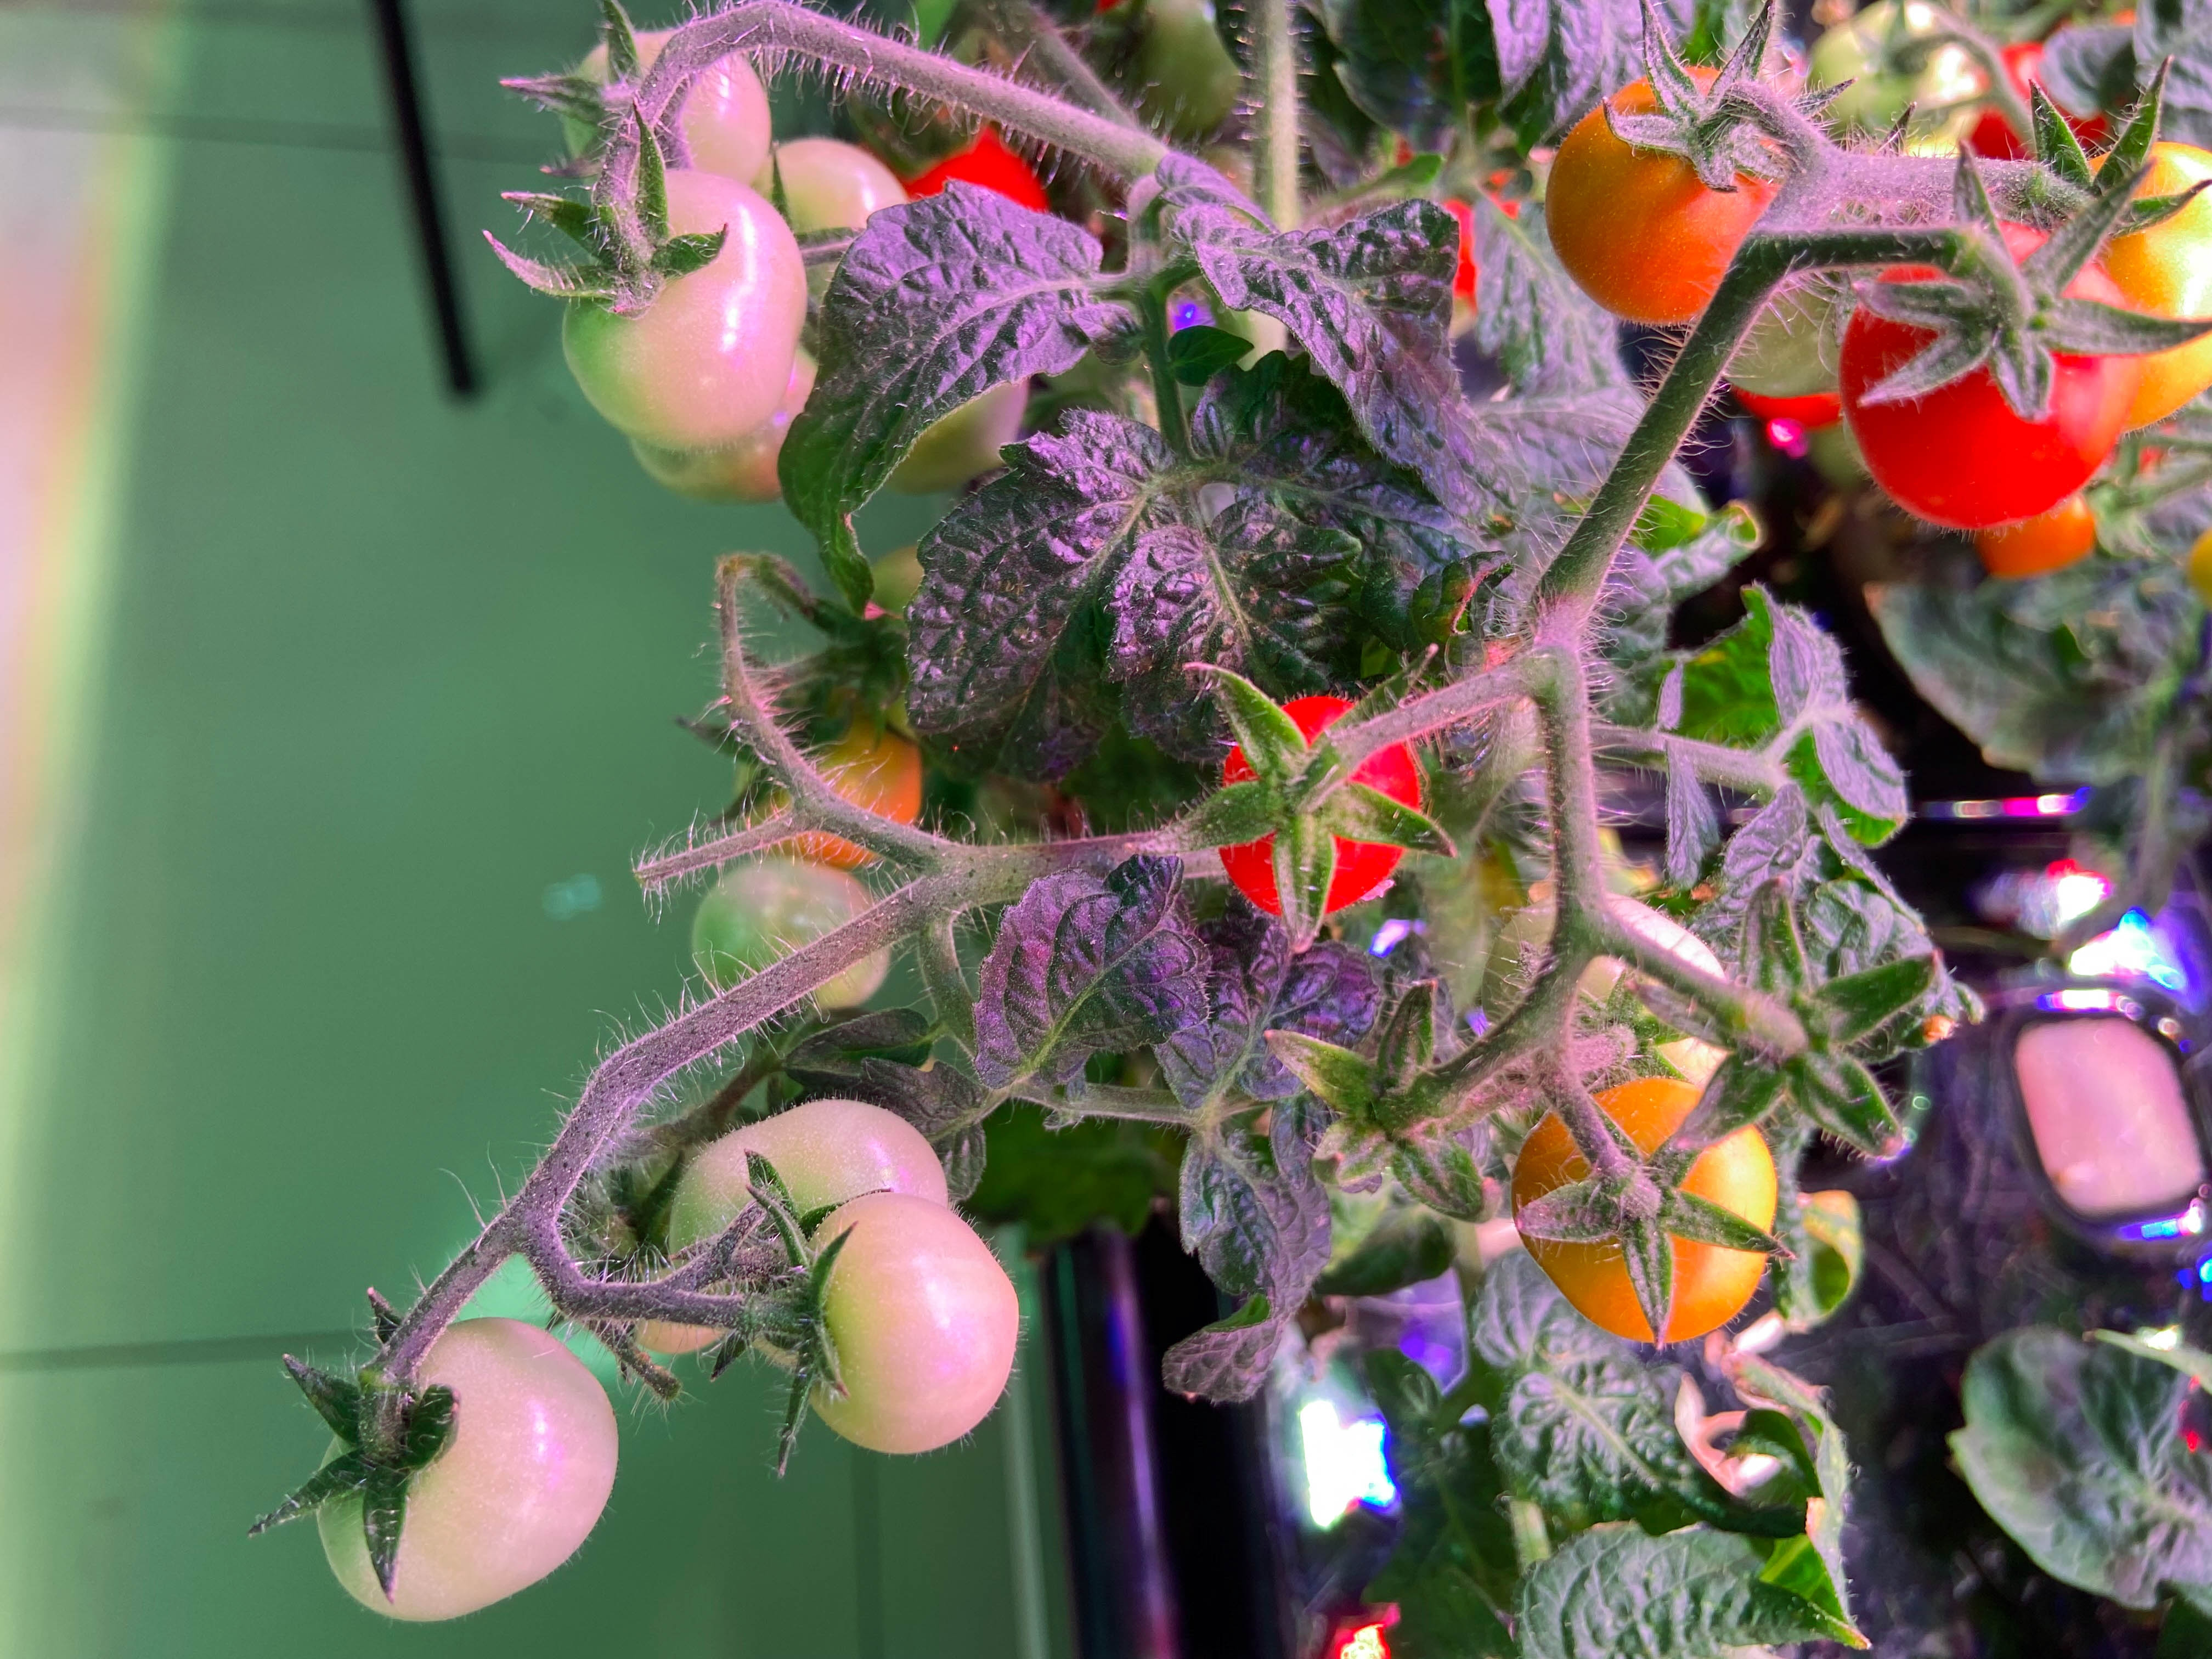green: (314, 1310, 622, 1622), (559, 176, 817, 451), (792, 1195, 1021, 1453), (662, 1098, 948, 1290), (550, 23, 772, 213), (683, 852, 895, 1030), (1526, 896, 1721, 1077), (613, 349, 810, 511), (1806, 3, 1965, 150), (1097, 0, 1240, 138), (756, 134, 900, 263), (887, 378, 1029, 491), (852, 542, 927, 610)
red: (1834, 214, 2127, 528), (1510, 1063, 1778, 1344), (1548, 56, 1791, 314), (2050, 148, 2212, 455), (1216, 690, 1420, 924), (1350, 131, 1540, 310), (763, 704, 925, 871), (1970, 467, 2107, 579), (900, 125, 1054, 225), (1977, 38, 2099, 160)
